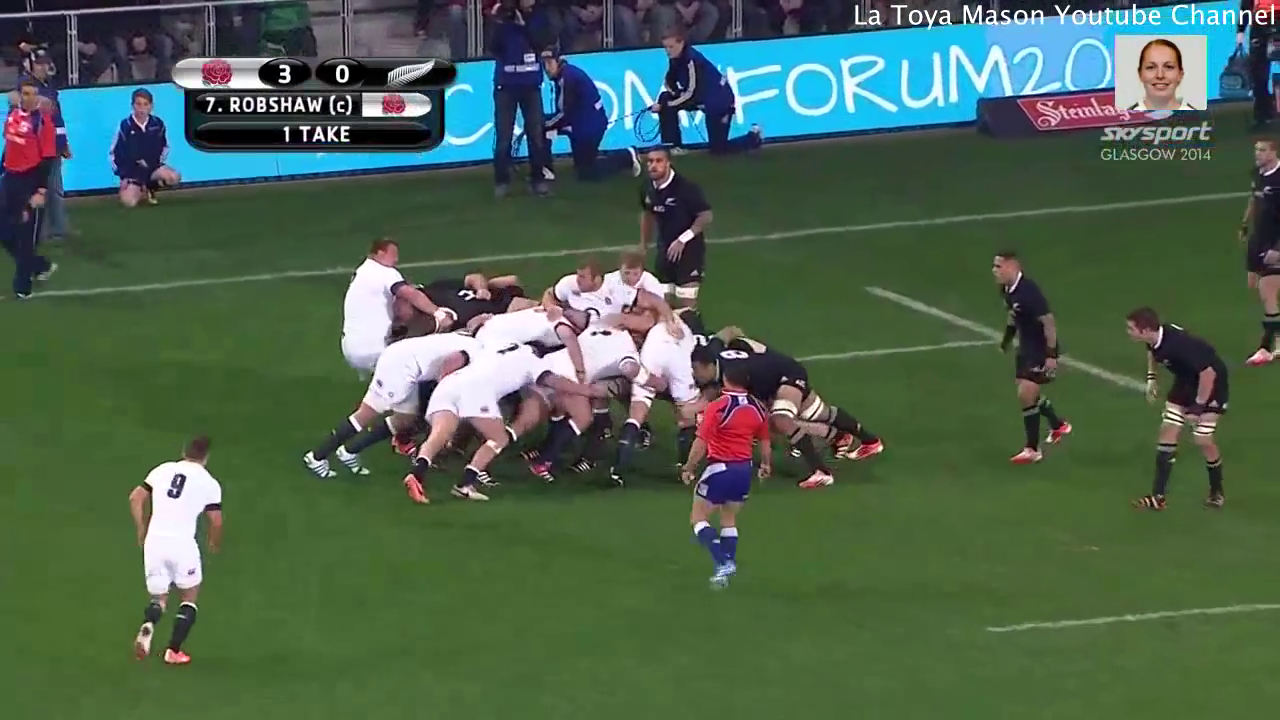maul: (296, 242, 913, 508)
player: (684, 328, 889, 504), (113, 420, 236, 674), (1106, 296, 1241, 527), (303, 305, 469, 492), (396, 324, 557, 510), (677, 337, 784, 602), (975, 234, 1083, 472), (619, 138, 712, 322), (513, 252, 669, 336), (1229, 118, 1280, 372), (328, 209, 391, 392), (369, 263, 526, 328)
